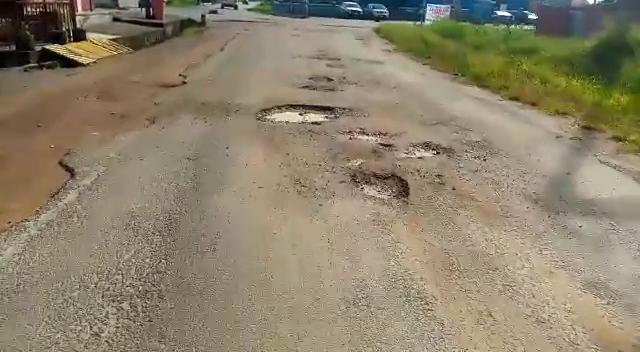pothole: (255, 104, 370, 125), (348, 168, 411, 203), (339, 128, 396, 148), (405, 140, 455, 155)
